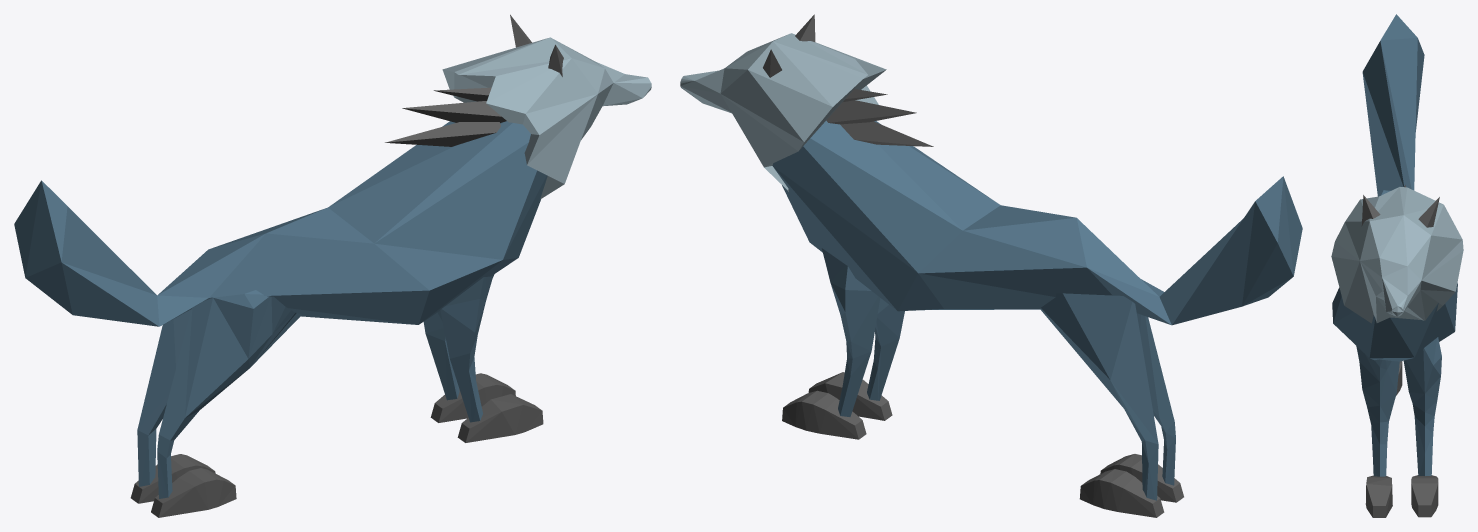
Rendered from wolf3.gltf.
3 renders of one model, left to right at view 1: azimuth 30°, elevation 25°; view 2: azimuth 150°, elevation 25°; view 3: azimuth 270°, elevation 25°, orthographic. The views are drawn at different scales.
Parts seen in each view (by area): view 1: 减面.2, head, 减面.4, 减面.2_1, 放样, 减面, 减面.7, 角锥.2, 减面.6, 减面.8, 角锥.1, 减面.9; view 2: 减面.2, head, 放样, 减面.8, 减面.9, 减面.6, 减面.4, 减面.2_1, 减面.7, 角锥.1, 角锥.2, 减面; view 3: head, 减面.2, 减面.8, 减面.2_1, 减面.6, 减面.7, 角锥.3, 角锥.4.
Boxes of the visible parts, box(x1,y1,x2,y2) form: 减面.2: box(14, 121, 547, 326); head: box(442, 37, 651, 199); 减面.4: box(157, 290, 301, 498); 减面.2_1: box(440, 274, 494, 422); 放样: box(137, 309, 191, 486); 减面: box(151, 468, 236, 517); 减面.7: box(457, 394, 543, 442); 角锥.2: box(385, 122, 500, 146); 减面.6: box(430, 373, 515, 422); 减面.8: box(423, 311, 459, 400); 角锥.1: box(402, 101, 506, 122); 减面.9: box(130, 454, 215, 503); 减面.2: box(772, 120, 1302, 325); head: box(680, 33, 886, 191); 放样: box(1040, 293, 1158, 500); 减面.8: box(821, 248, 880, 416); 减面.9: box(1079, 469, 1164, 517); 减面.6: box(782, 390, 866, 439); 减面.4: box(1137, 313, 1175, 485); 减面.2_1: box(867, 298, 904, 400); 减面.7: box(808, 372, 892, 420); 角锥.1: box(826, 100, 916, 124); 角锥.2: box(840, 121, 933, 146); 减面: box(1100, 454, 1183, 502); head: box(1331, 187, 1463, 323); 减面.2: box(1332, 14, 1457, 361); 减面.8: box(1403, 337, 1441, 475); 减面.2_1: box(1356, 346, 1399, 476); 减面.6: box(1411, 475, 1438, 517); 减面.7: box(1365, 475, 1392, 517); 角锥.3: box(1418, 197, 1439, 227); 角锥.4: box(1361, 195, 1380, 226).
Bounding box in the file's own units: 574 × 342 × 124.
